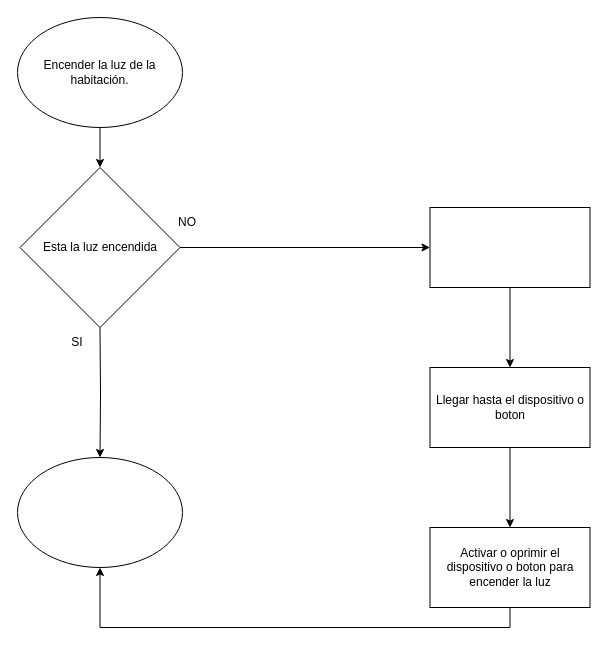
The diagram is 608 pixels wide and 653 high, and some of its shapes have lost their labels. Here are the shapes that lost their labels. From the top down, the box of each, then its label:
(429, 206, 590, 288): Localizar el dispositivo o boton que enciende la luz
(16, 456, 182, 568): Final
